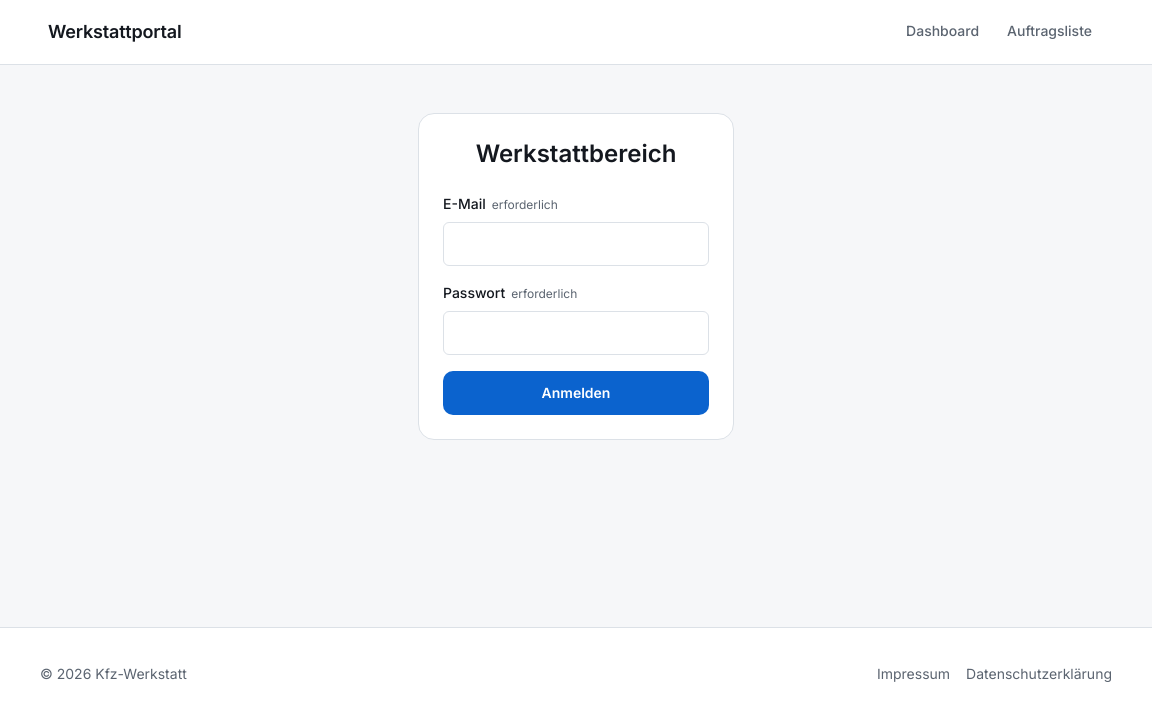
it: legal pages › navigates from a footer link to the Datenschutzerklärung page
The width and height of the screenshot is (1152, 717).
Click the link "Datenschutzerklärung" at (1039, 673), box [966,665,1112,682]
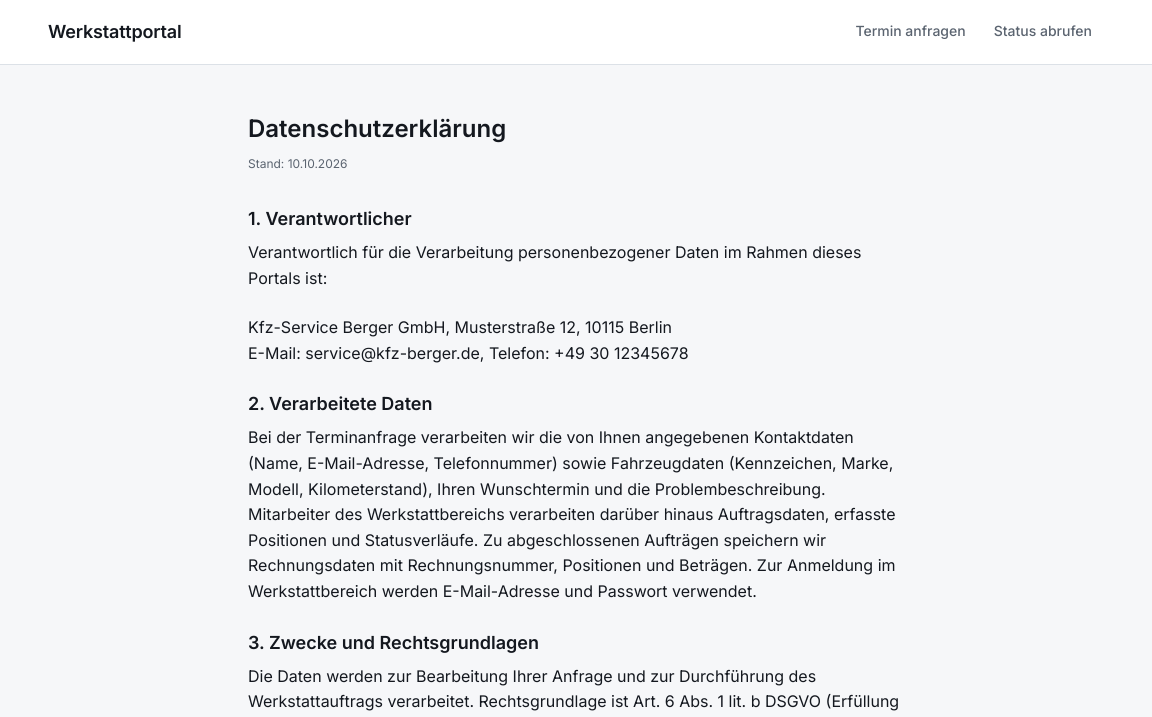
Expected: the heading "Datenschutzerklärung" is shown, [248,114,506,143]
